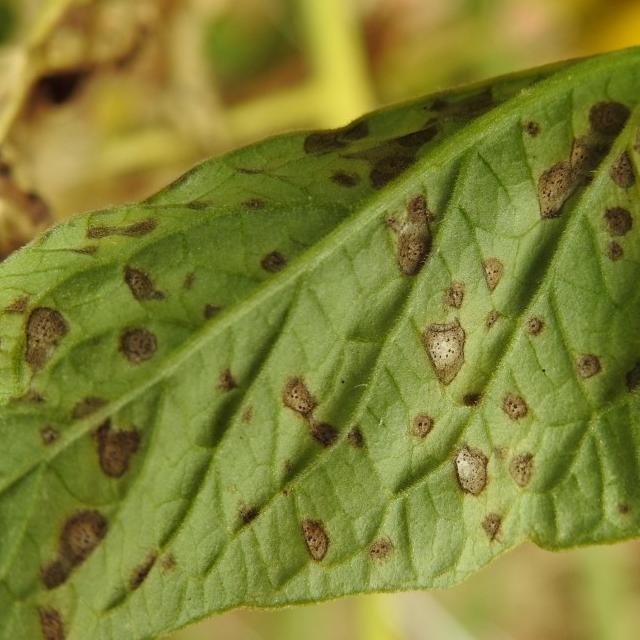Tomato Septoria leaf spot: (0, 1, 640, 640)
